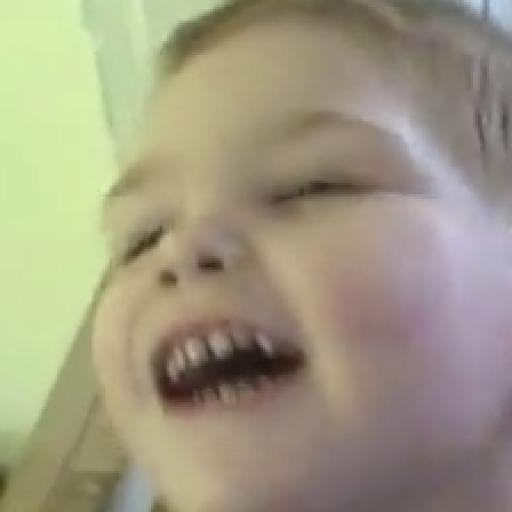Autism: (64, 57, 512, 512)
